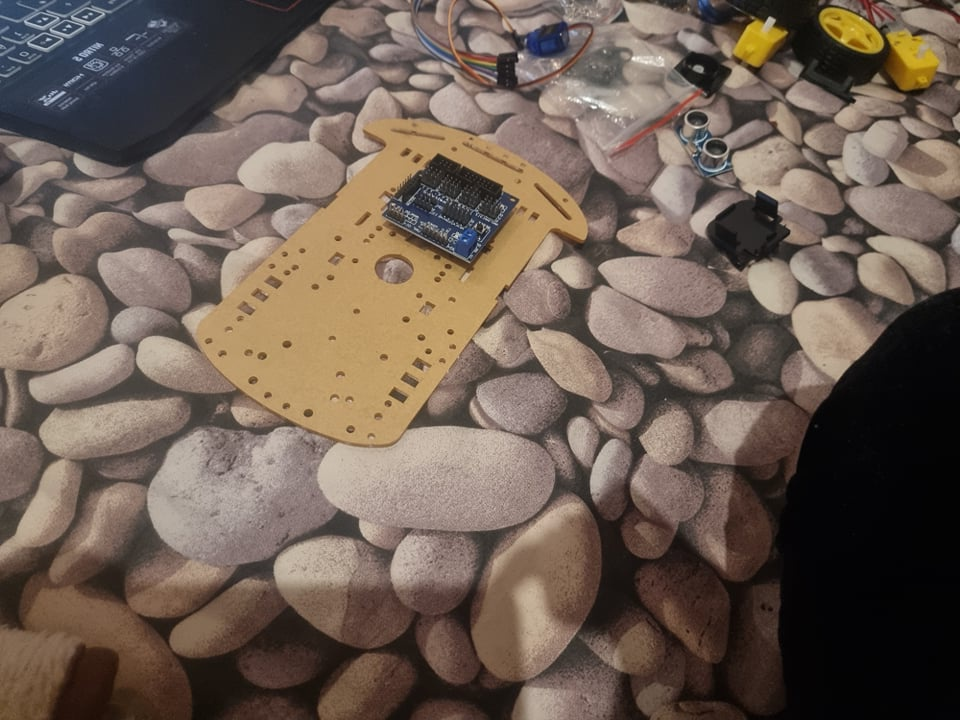5V EXPANSION: (380, 153, 523, 265)
SENSOR: (677, 104, 735, 179)
